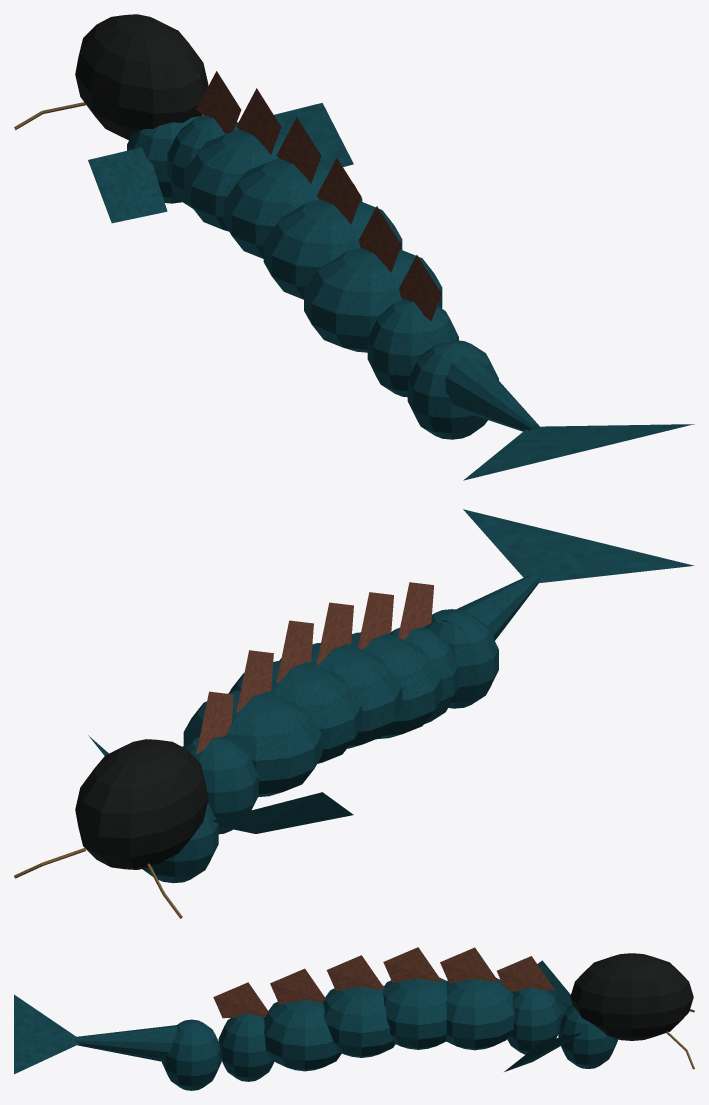
File: SK_Boss_havfrue_modor_silhouette.gltf
3 renders of one model, top to bottom at view 1: azimuth 30°, elevation 25°; view 2: azimuth 150°, elevation 25°; view 3: azimuth 270°, elevation 25°, orthographic. The views are drawn at different scales.
Visible parts, largest first — view 1: root, fin_tail; view 2: root, fin_tail; view 3: root, fin_tail.
Boxes of the visible parts, <box> form: root: <box>14,14,498,439</box>; fin_tail: <box>429,340,694,480</box>; root: <box>14,582,498,918</box>; fin_tail: <box>431,509,694,640</box>; root: <box>162,947,694,1090</box>; fin_tail: <box>14,994,202,1074</box>.
Bounding box in the file's own units: 1.92 × 1.52 × 6.61.
5 materials, 5 textured.
